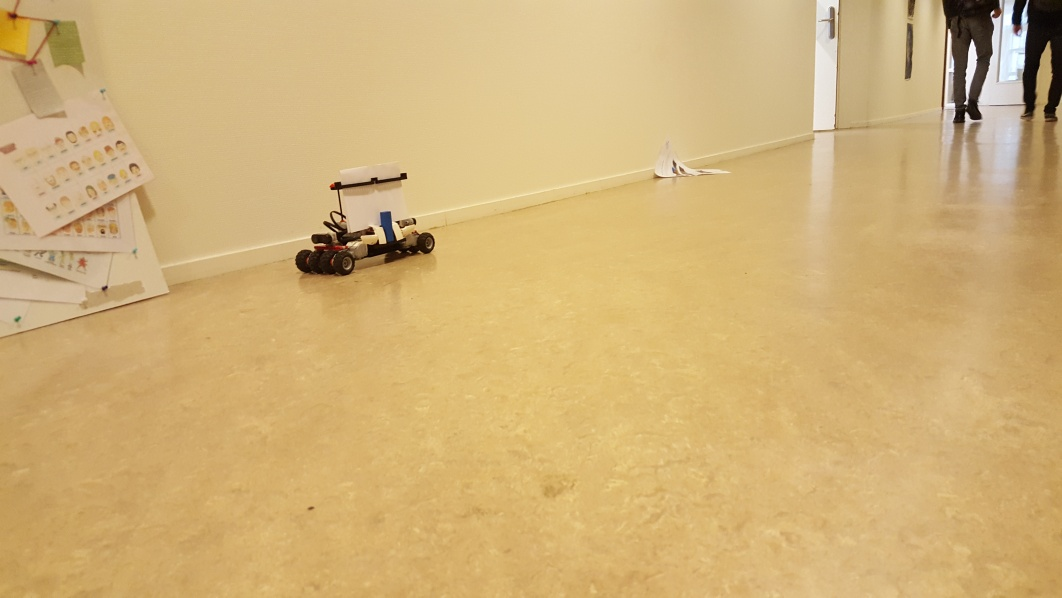car: (296, 165, 436, 276)
